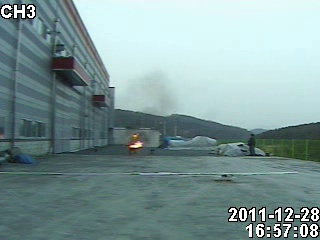fire: (124, 134, 148, 150)
